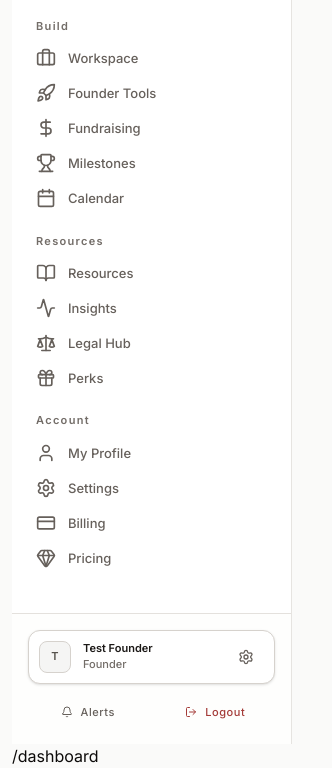
Test: Sidebar navigation controls › keeps Settings independent from the profile link
(page scrolled)
Click the button named "Settings" at x=246, y=657, box [228,642,264,673]
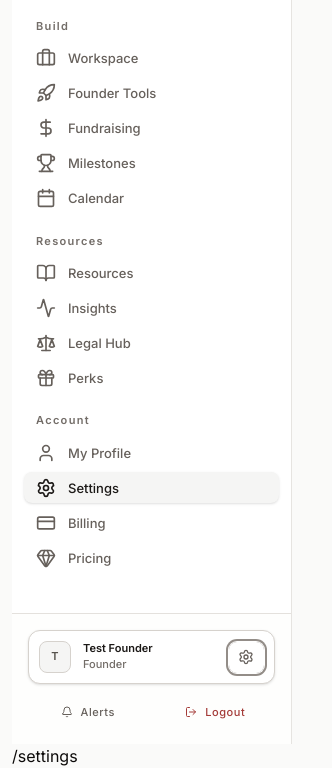
Expected: the text with test id "location" reads "/settings", [12,746,78,766]
